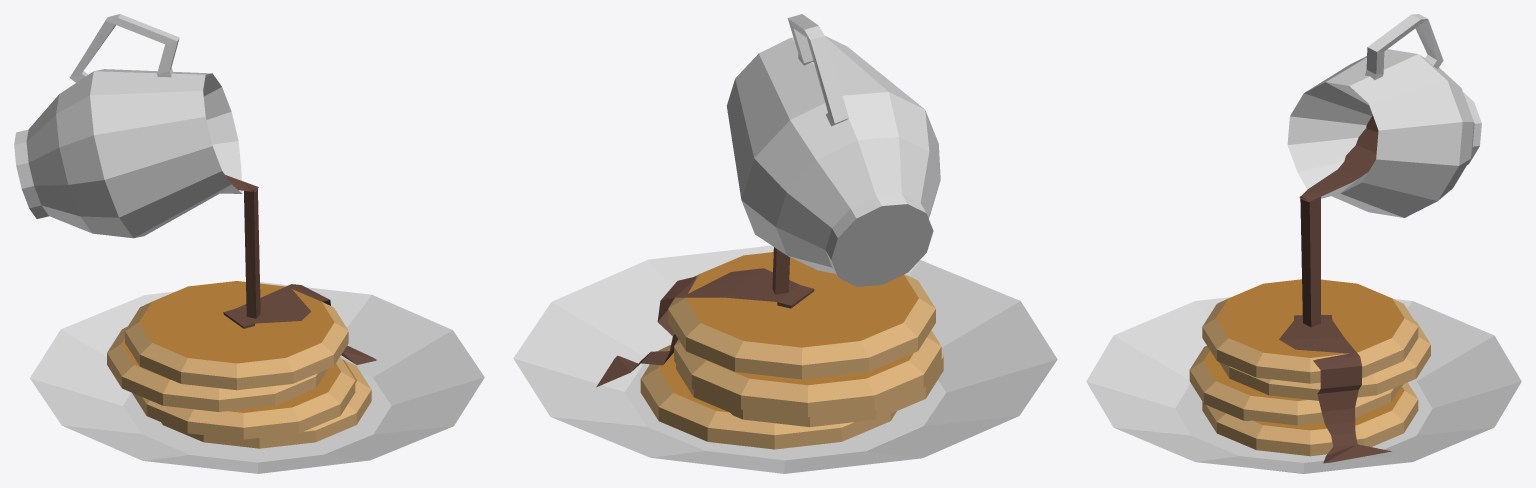
File: Pancake.glb
3 renders of one model, left to right at view 1: azimuth 30°, elevation 25°; view 2: azimuth 150°, elevation 25°; view 3: azimuth 270°, elevation 25°, orthographic. The views are drawn at different scales.
Visible parts, largest first — view 1: node_MeshObject-113041856-PolyPaper21; view 2: node_MeshObject-113041856-PolyPaper21; view 3: node_MeshObject-113041856-PolyPaper21.
Part boxes in pixels (x1,y1,x2,y2): node_MeshObject-113041856-PolyPaper21: (14,14,484,473); node_MeshObject-113041856-PolyPaper21: (513,14,1057,473); node_MeshObject-113041856-PolyPaper21: (1086,14,1521,473).
Bounding box in the file's own units: 0.343 × 0.3276 × 0.343.
